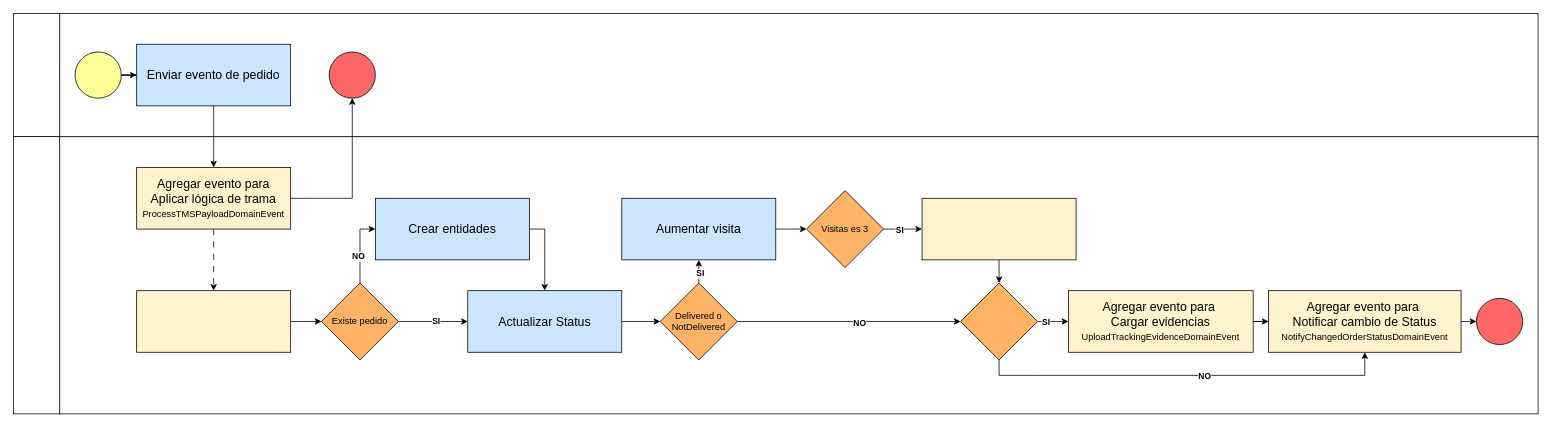
The diagram is 1552 pixels wide and 427 high, and some of its shapes have lost their labels. Here are the shapes that lost their labels. From the top down, the centre of each, then its label:
At point (36, 75): "TMS".
At point (998, 229): "Agregar evento para Retornar pedido ReturnOrderDomainEvent".
At point (36, 275): "API".
At point (213, 321): "Aplicar lógica de trama ProcessTMSPayloadDomainEvent".
At point (999, 321): "Status para cargar evidencias".
